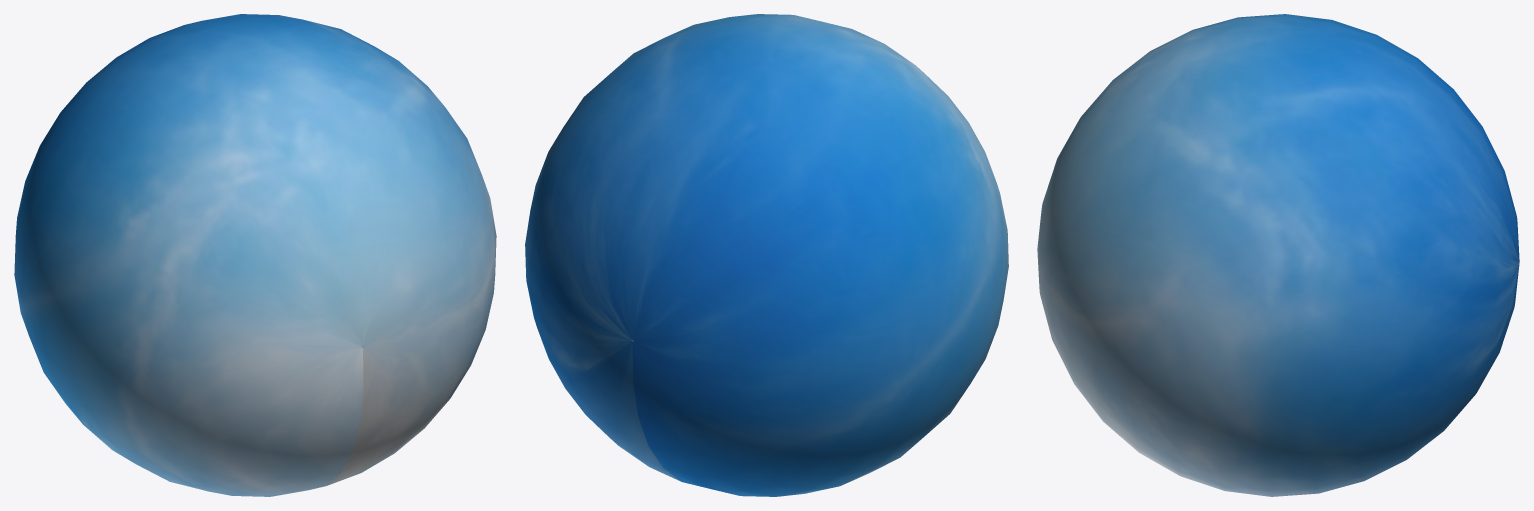
File: grass.glb
The picture shows the model from 3 angles, left to right: view 1: azimuth 30°, elevation 25°; view 2: azimuth 150°, elevation 25°; view 3: azimuth 270°, elevation 25°; orthographic projection.
Parts seen in each view (by area): view 1: Sphere; view 2: Sphere; view 3: Sphere.
Boxes of the visible parts, x1,y1,x2,y2 form: Sphere: [14, 14, 496, 496]; Sphere: [525, 14, 1008, 496]; Sphere: [1037, 14, 1519, 496].
Bounding box in the file's own units: 307 × 308 × 308.
Materials: 2 (2 with a texture image).
